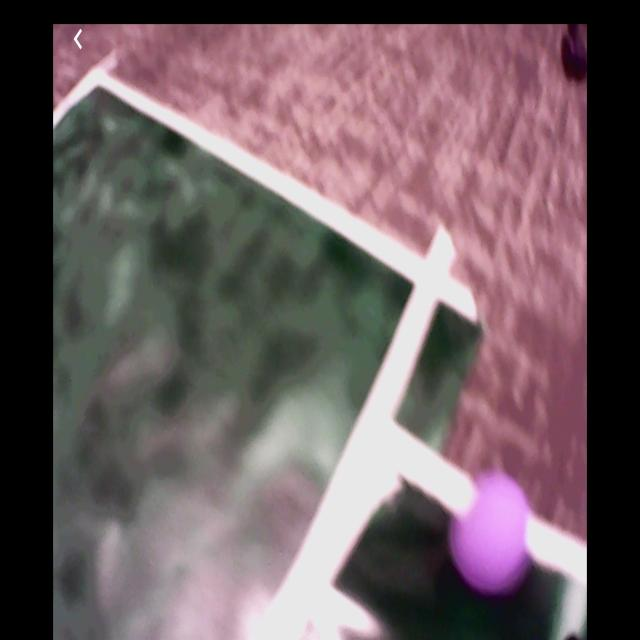ball: (452, 473, 535, 592)
